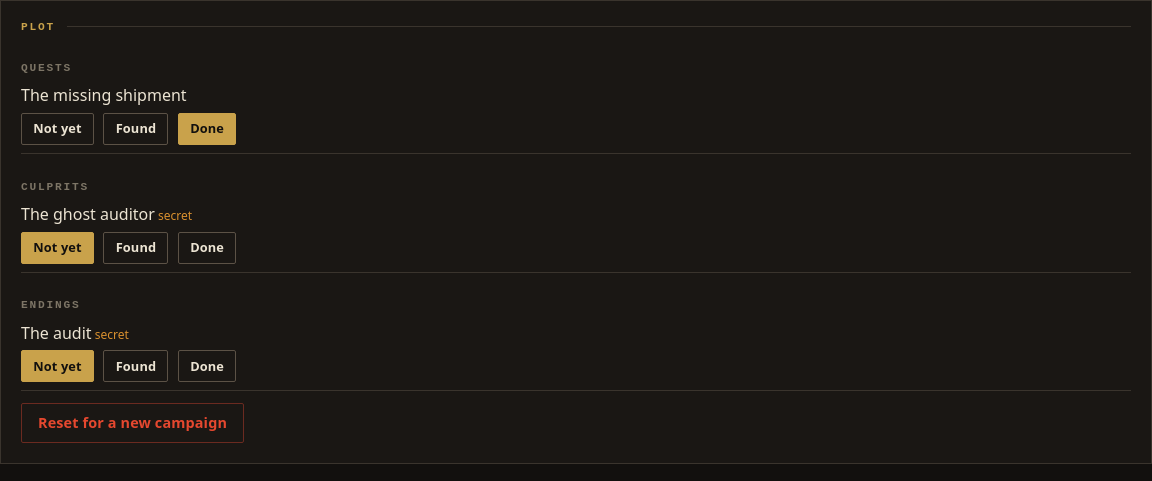
PlotPanel reset › can back out
Expected: the list item with test id "plot-quest/missing-shipment" is shown, [21, 83, 1131, 154]
Click the button with test id "plot-reset" at (132, 423), box [21, 403, 244, 443]
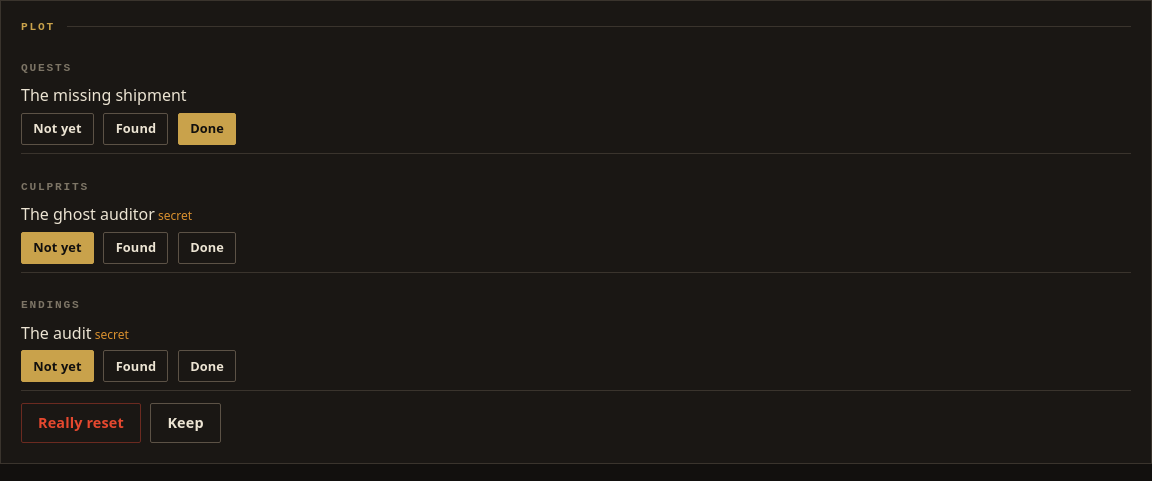
Click the button with test id "plot-reset-cancel" at (186, 423), box [150, 403, 221, 443]
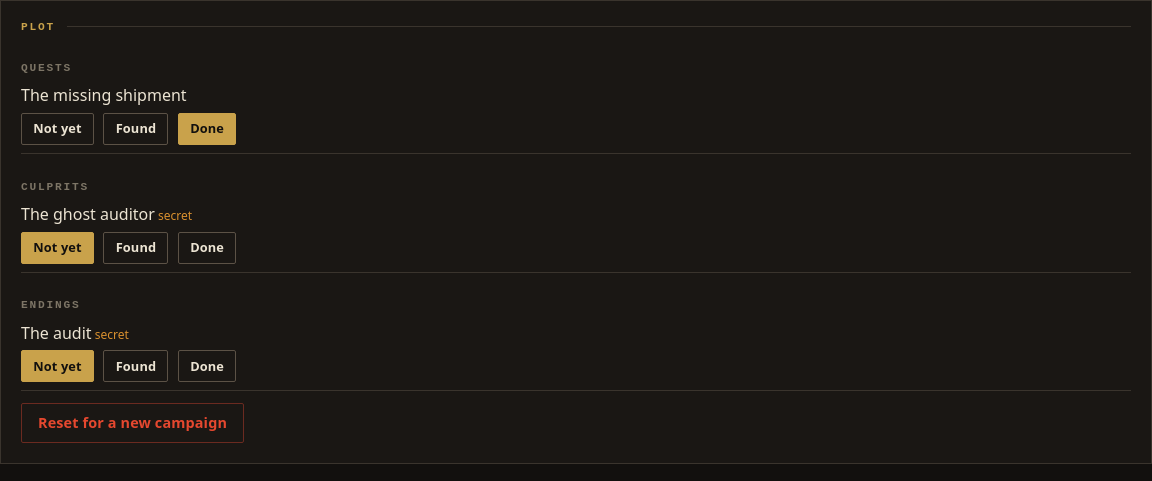
Expected: the button with test id "plot-reset" is shown, [21, 403, 244, 443]
